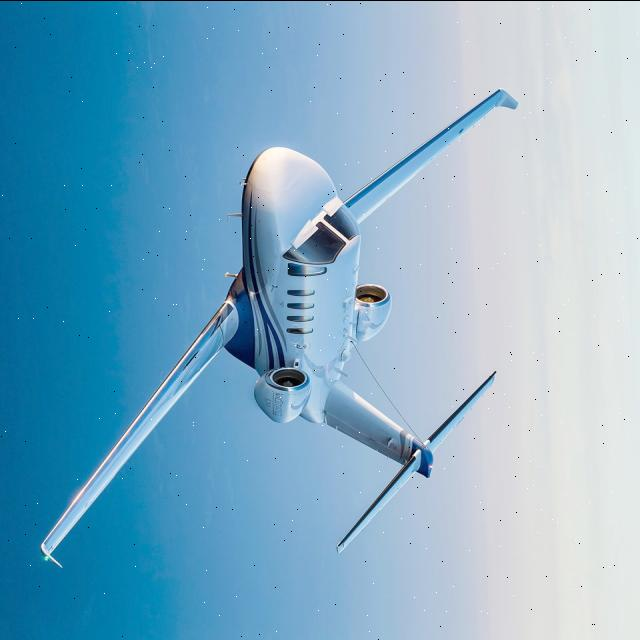jet: (9, 77, 609, 605)
